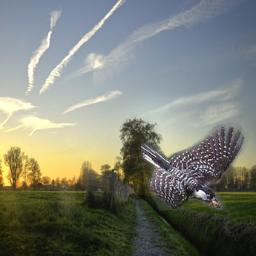Woodpecker: (141, 122, 249, 213)
